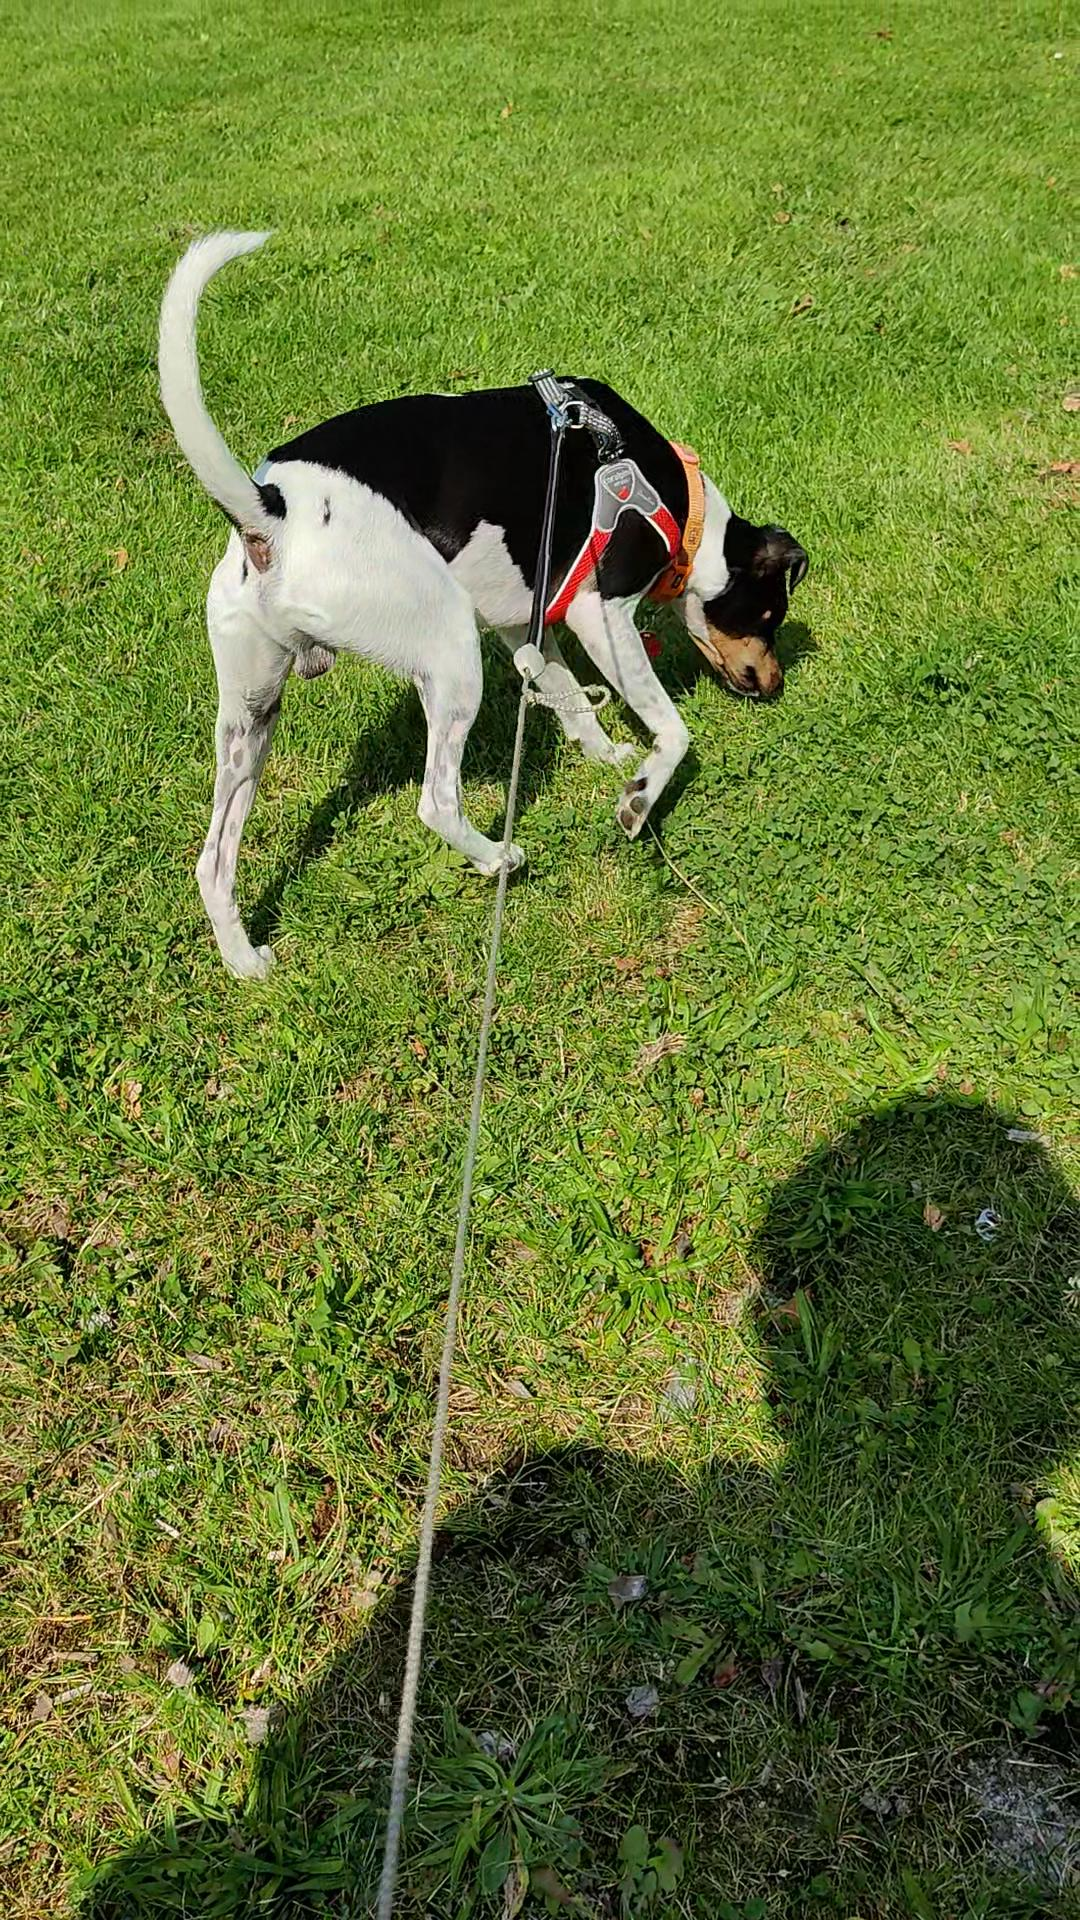Dog: (142, 219, 825, 1005)
